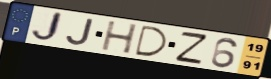6: (209, 36, 239, 69)
D: (134, 24, 169, 58)
H: (101, 20, 140, 55)
J: (29, 10, 65, 44), (64, 18, 96, 47)
Z: (174, 30, 210, 65)
